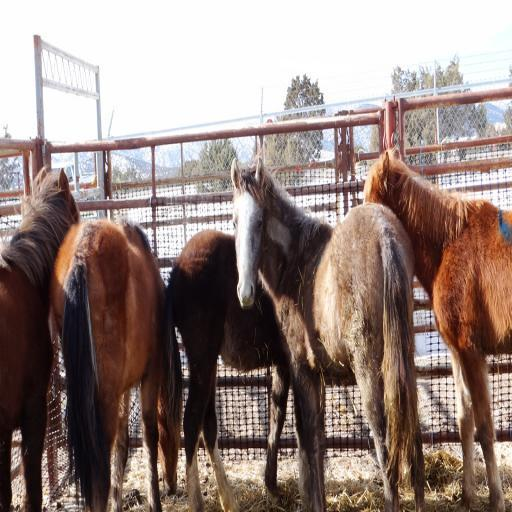horse: (230, 156, 426, 512), (362, 151, 511, 511), (48, 220, 182, 512), (162, 226, 280, 510), (0, 164, 80, 512)
